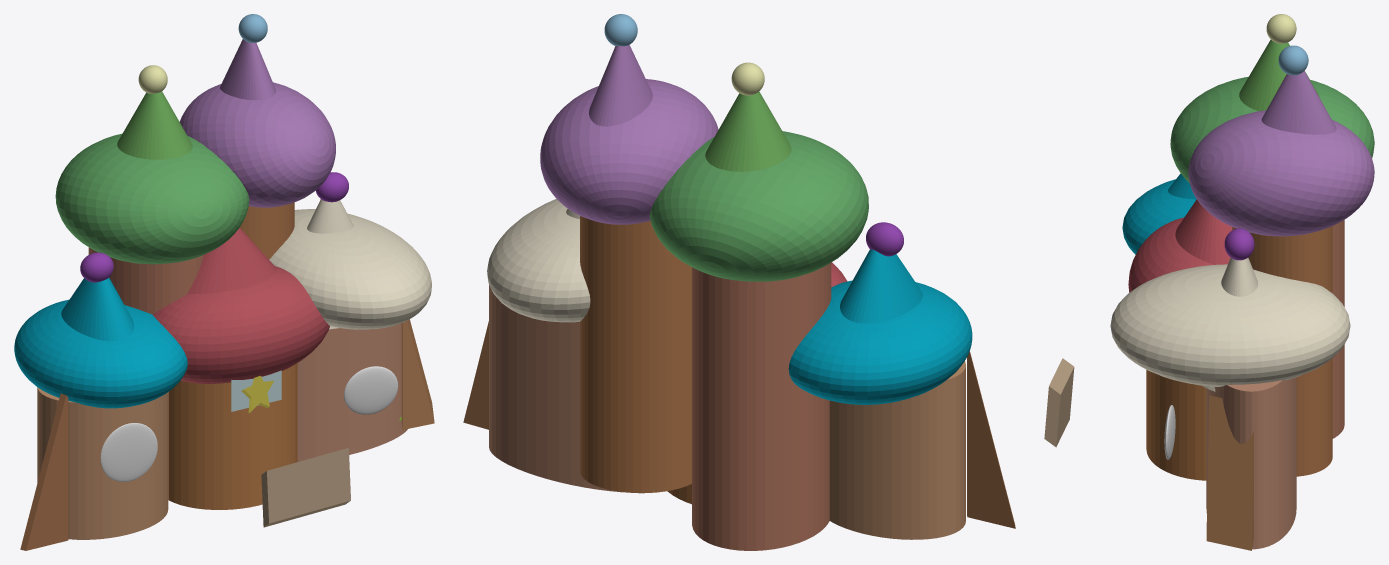
File: Rusia.glb
3 views of the same model, side by side, from view 1: azimuth 30°, elevation 25°; view 2: azimuth 150°, elevation 25°; view 3: azimuth 270°, elevation 25° (orthographic). The views are drawn at different scales.
Parts seen in each view (by area): view 1: Mesh_Mesh_head_geo.001_lambert2SG.001; view 2: Mesh_Mesh_head_geo.001_lambert2SG.001; view 3: Mesh_Mesh_head_geo.001_lambert2SG.001.
Boxes of the visible parts, x1,y1,x2,y2 form: Mesh_Mesh_head_geo.001_lambert2SG.001: [14, 14, 434, 550]; Mesh_Mesh_head_geo.001_lambert2SG.001: [463, 14, 1015, 550]; Mesh_Mesh_head_geo.001_lambert2SG.001: [1044, 14, 1374, 550].
Size of the model in its own units: 0.089 by 0.08 by 0.055.
